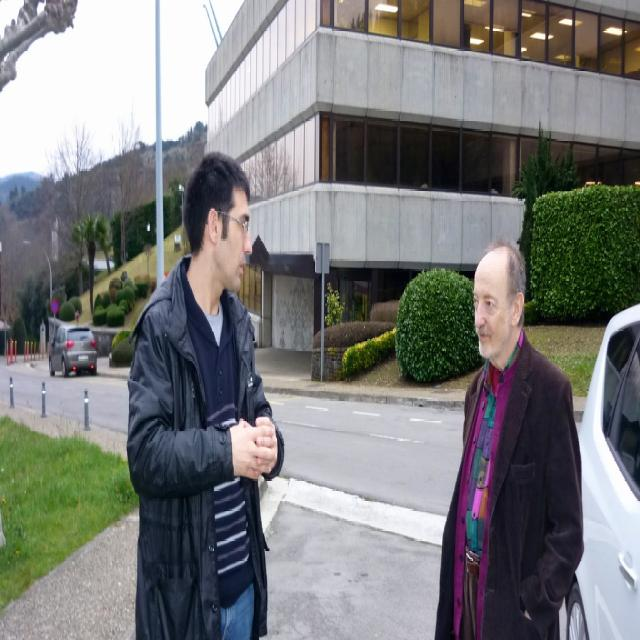car: (47, 325, 97, 375)
